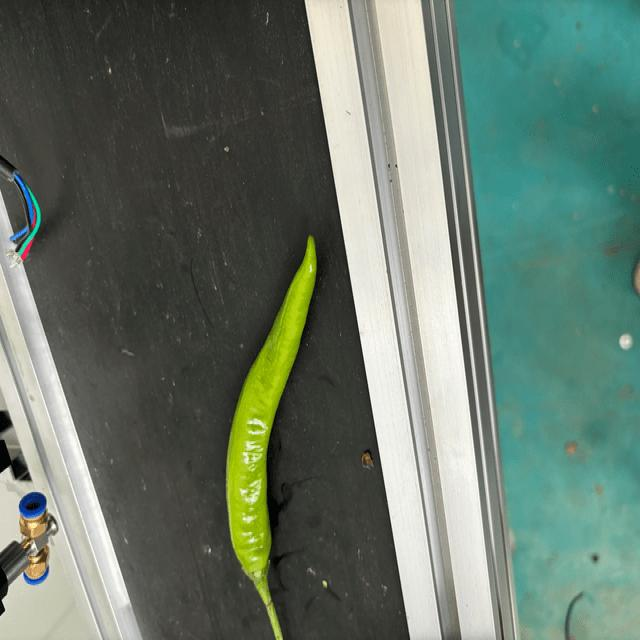chili: (223, 227, 318, 590)
